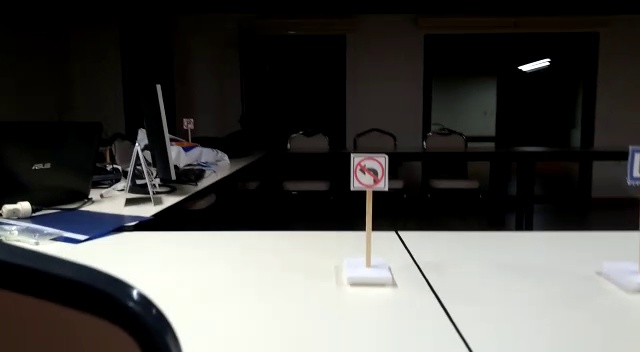sola_donulmez: (352, 154, 387, 191)
